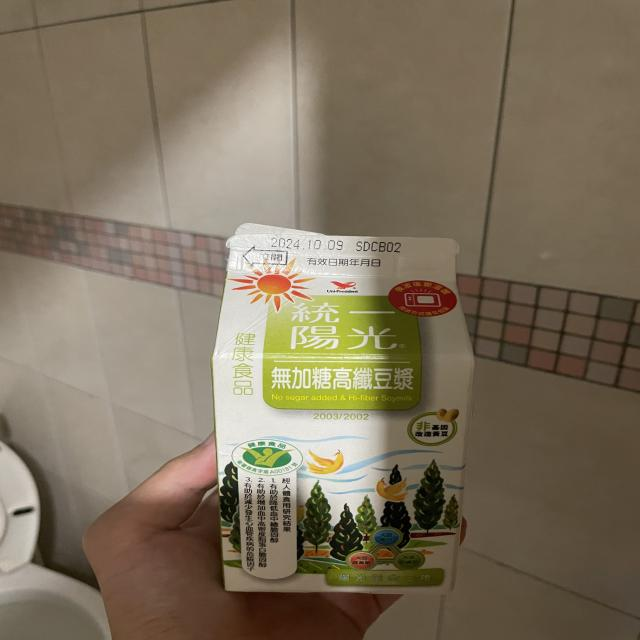TongYi_UnsweetenedHighFiberSoyMilk: (208, 210, 478, 602)
